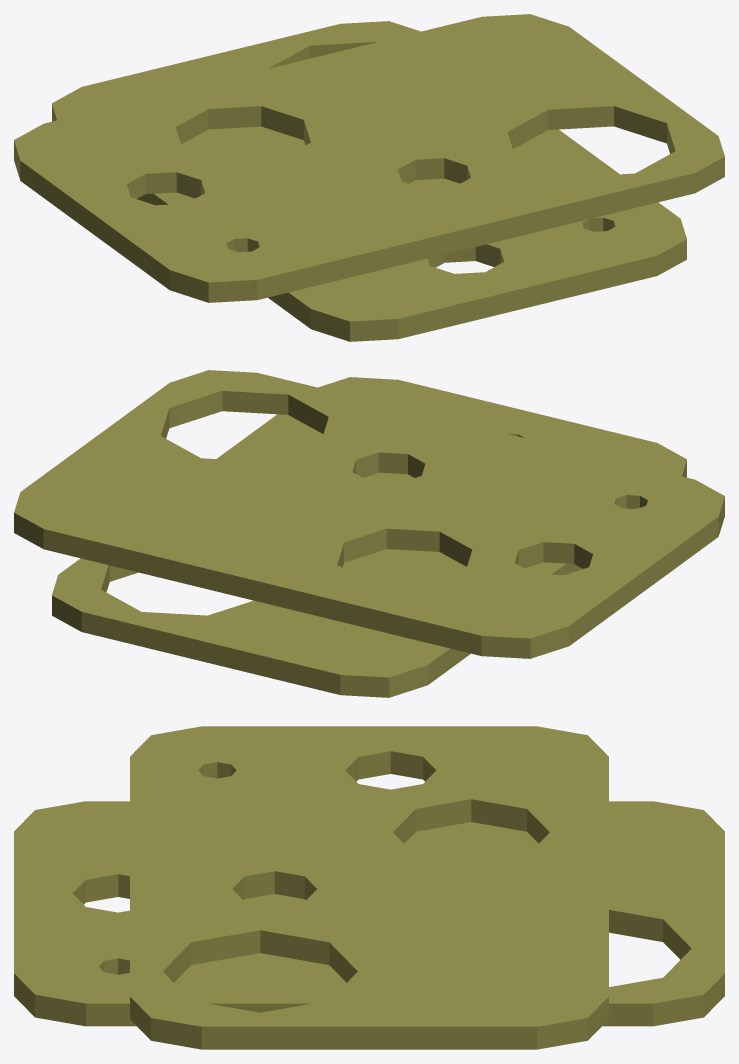
File: SM_CheeseSlice2.fbx
3 views of the same model, one above another, from view 1: azimuth 30°, elevation 25°; view 2: azimuth 150°, elevation 25°; view 3: azimuth 270°, elevation 25° (orthographic). The views are drawn at different scales.
Parts seen in each view (by area): view 1: CheeseSlice2; view 2: CheeseSlice2; view 3: CheeseSlice2.
Boxes of the visible parts, bbox=[...] form: CheeseSlice2: bbox=[14, 14, 724, 341]; CheeseSlice2: bbox=[14, 370, 724, 697]; CheeseSlice2: bbox=[14, 726, 724, 1049].
Size of the model in its own units: 16.95 by 1.28 by 16.95.
